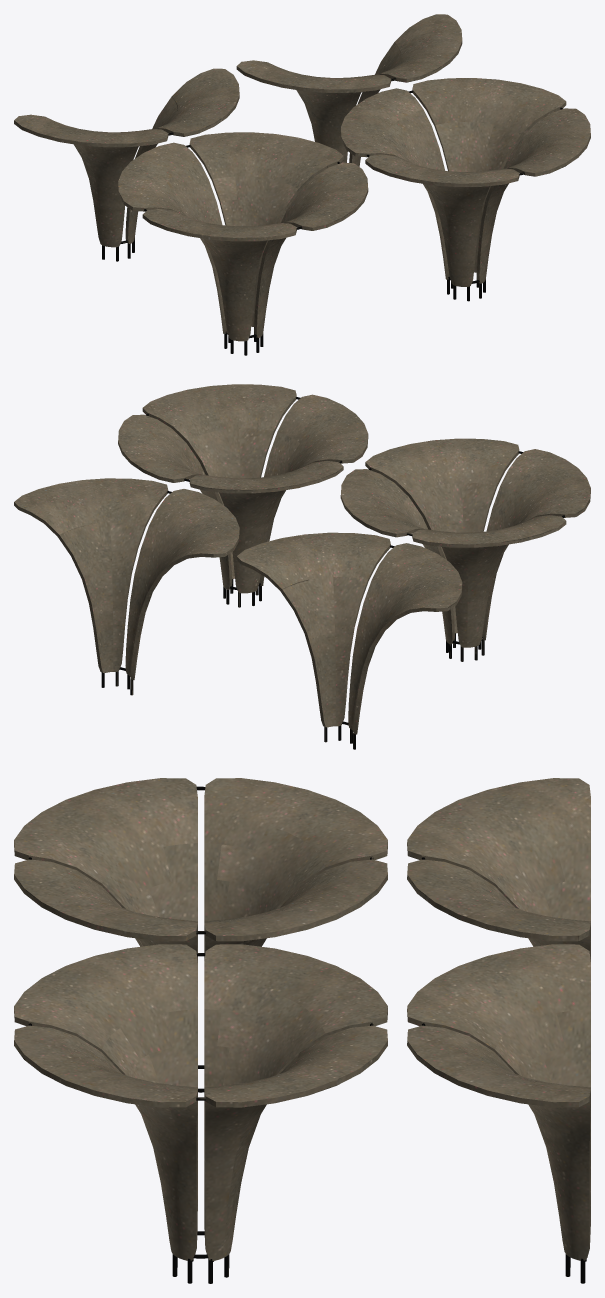
File: Payung.fbx
3 views of the same model, one above another, from view 1: azimuth 30°, elevation 25°; view 2: azimuth 150°, elevation 25°; view 3: azimuth 270°, elevation 25° (orthographic). The views are drawn at different scales.
Visible parts, largest first — view 1: Payung_Baked; view 2: Payung_Baked; view 3: Payung_Baked.
Boxes of the visible parts, x1,y1,x2,y2 form: Payung_Baked: [14, 14, 590, 355]; Payung_Baked: [14, 384, 590, 749]; Payung_Baked: [14, 778, 590, 1283].
Bounding box in the file's own units: 1952 × 697 × 1468.
Materials: 1 (1 with a texture image).
